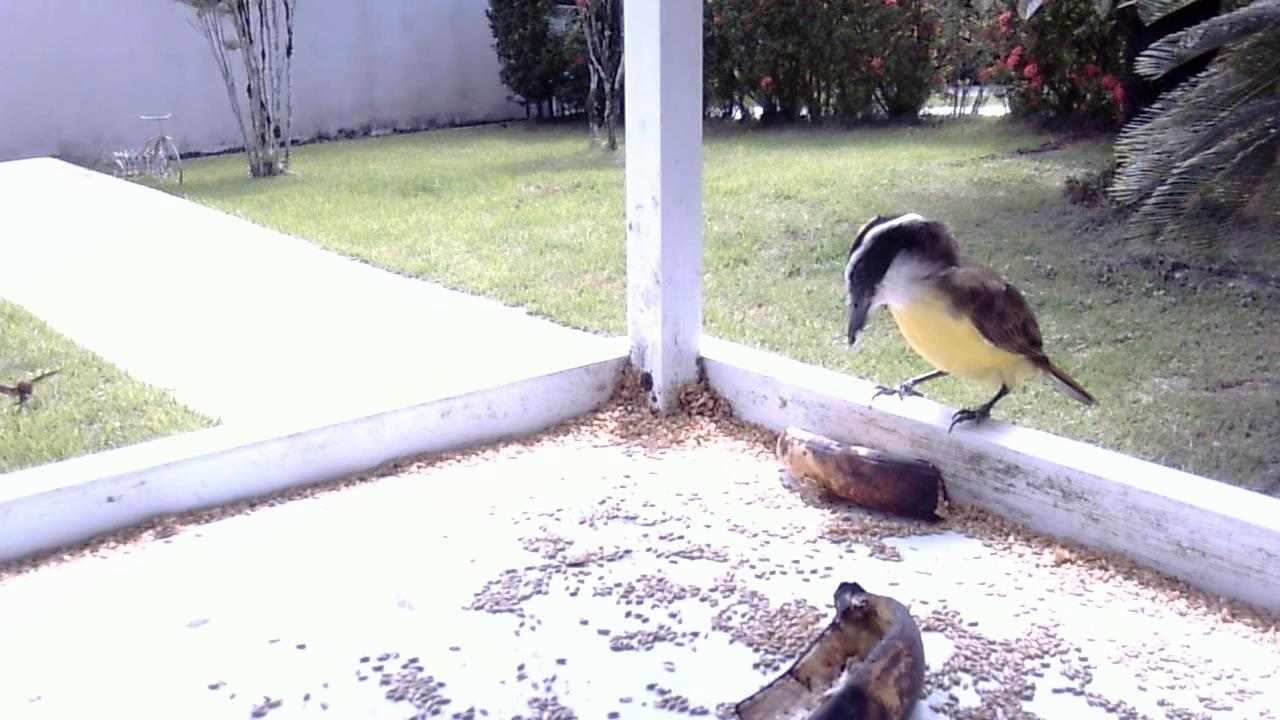bem_te_vi: (835, 203, 1108, 445)
